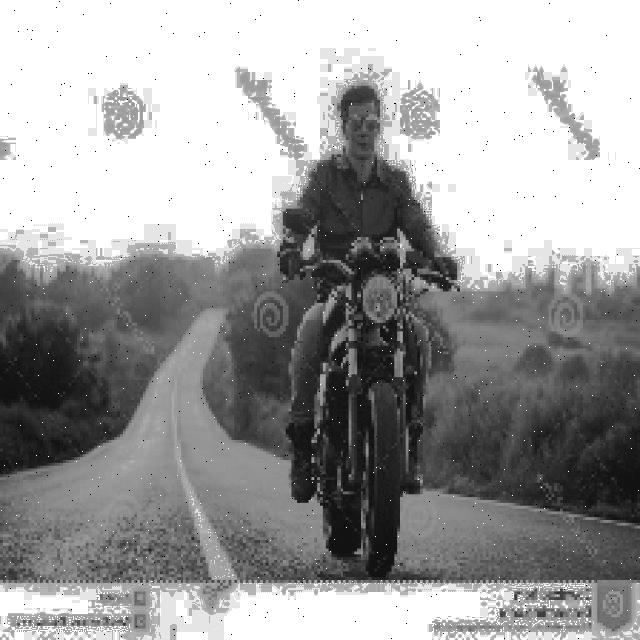Bike: (309, 231, 427, 565)
